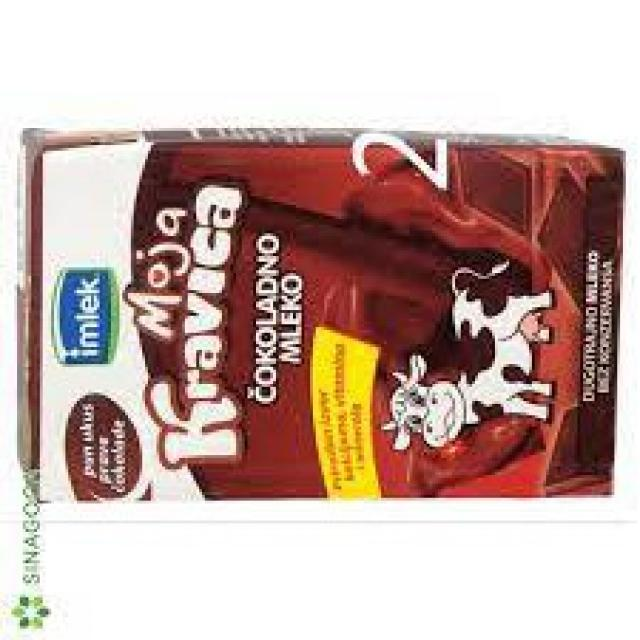non_white_jug: (11, 125, 630, 501)
